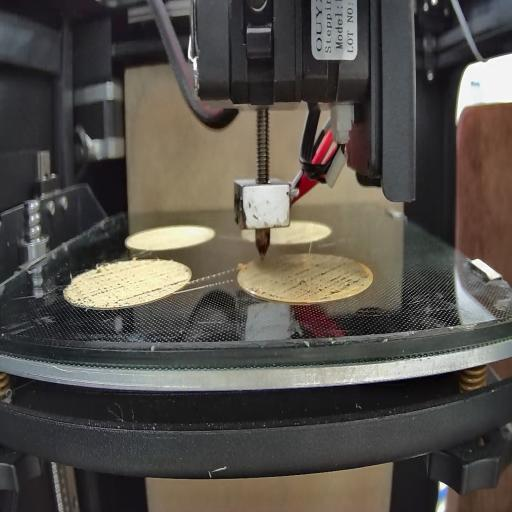under_extrusion: (64, 255, 166, 305), (246, 263, 370, 295), (167, 271, 191, 291)
